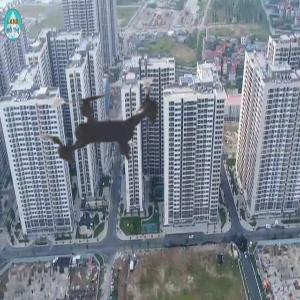drone: (5, 32, 200, 227)
